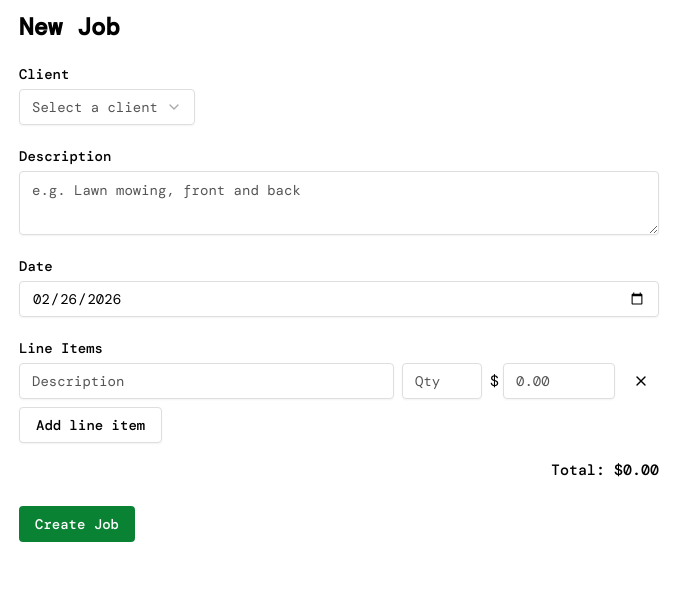
it: JobNew page › shows validation error when submitting without selecting a client
Expected: the dropdown is shown, [19,89,195,125]
Click the button "Create Job": (77, 524) [19,506,135,542]
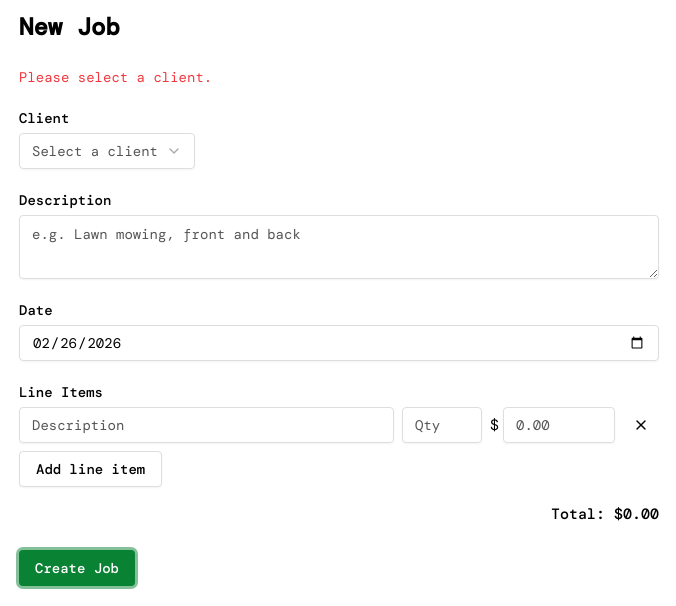
Now the message "Please select a client." is shown, box [19,68,212,86]
